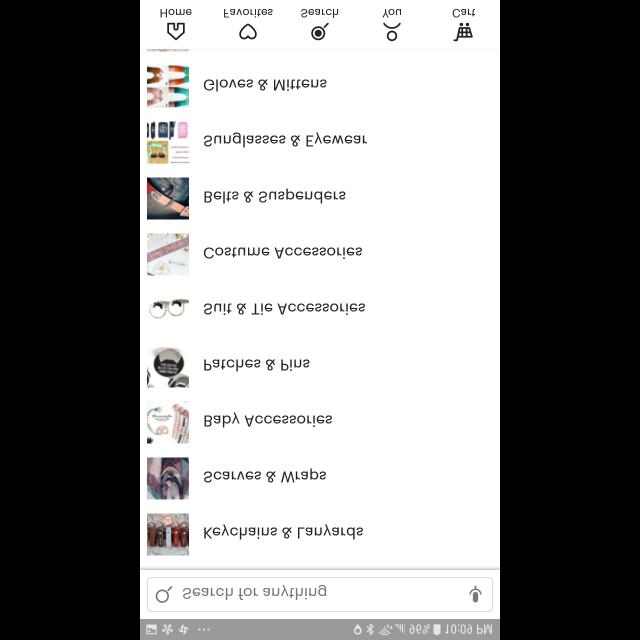icon: (453, 22, 473, 42), (383, 22, 401, 42), (311, 22, 329, 40), (168, 22, 186, 40), (239, 24, 257, 40), (156, 586, 172, 602), (470, 586, 482, 602)
image: (147, 120, 189, 163), (147, 513, 189, 555), (147, 457, 189, 499), (147, 401, 189, 443), (147, 233, 189, 275), (147, 177, 189, 219), (147, 65, 189, 107), (147, 347, 189, 387), (149, 298, 189, 318)
input: (148, 576, 492, 612)
text: (204, 132, 368, 148), (204, 524, 364, 540), (183, 584, 327, 600), (204, 188, 346, 204), (204, 412, 332, 428), (204, 303, 366, 315), (204, 247, 362, 259), (204, 468, 326, 482), (204, 358, 310, 372), (204, 80, 326, 92), (224, 8, 272, 18), (301, 9, 339, 19), (160, 8, 192, 18), (452, 8, 476, 18), (382, 8, 402, 18)
uppertaskbar: (140, 619, 500, 639)
